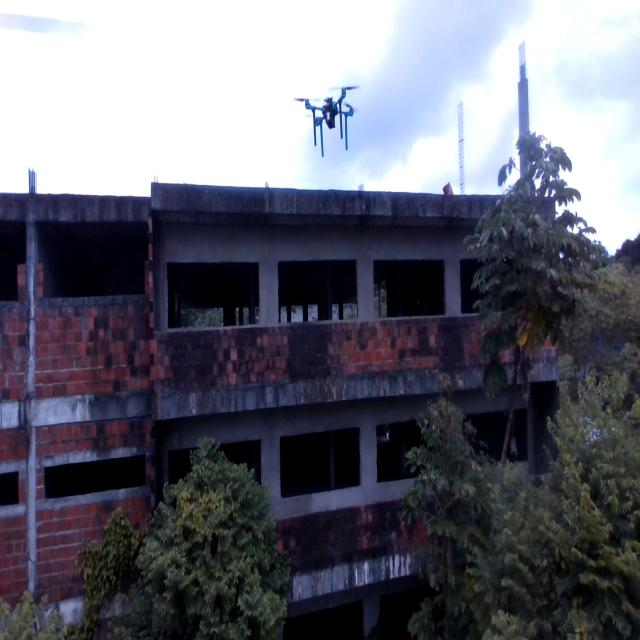-uav-: (283, 41, 375, 163)
